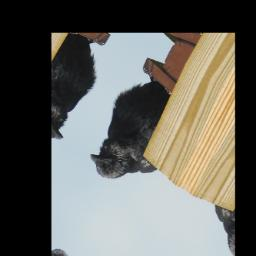Crow: (80, 61, 193, 201)
